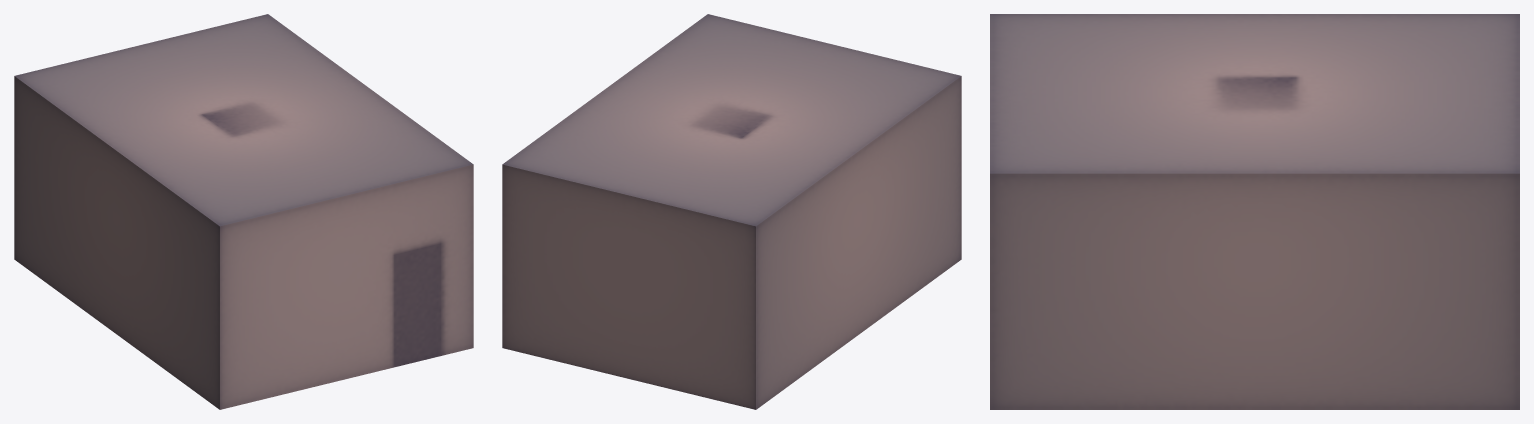
Rendered from test_room_decimate.obj.
3 renders of one model, left to right at view 1: azimuth 30°, elevation 25°; view 2: azimuth 150°, elevation 25°; view 3: azimuth 270°, elevation 25°, orthographic. The views are drawn at different scales.
Parts seen in each view (by area): view 1: Room01_Cube.002; view 2: Room01_Cube.002; view 3: Room01_Cube.002.
Part boxes in pixels (x1,y1,x2,y2): Room01_Cube.002: [14, 14, 473, 409]; Room01_Cube.002: [502, 14, 961, 409]; Room01_Cube.002: [990, 14, 1519, 409].
Size of the model in its own units: 5.09 by 3.59 by 7.14.
1 material, 1 textured.
